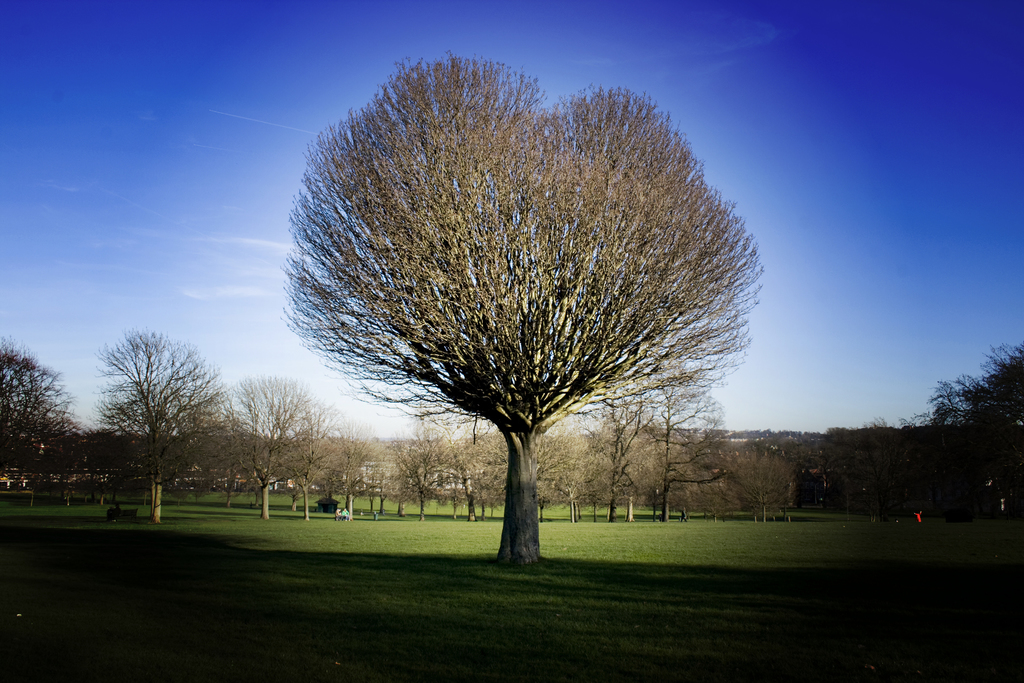Tree: (312, 43, 741, 551), (0, 328, 918, 524), (918, 340, 1023, 527)
